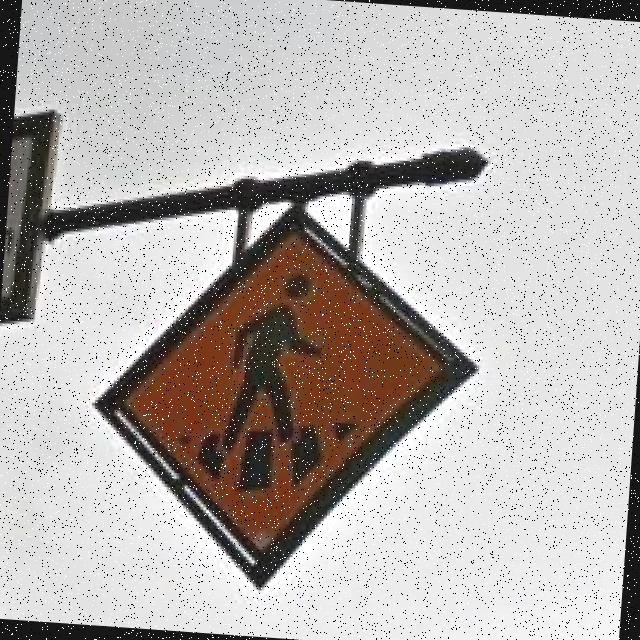Przejscie dla pieszych: (118, 218, 451, 549)
